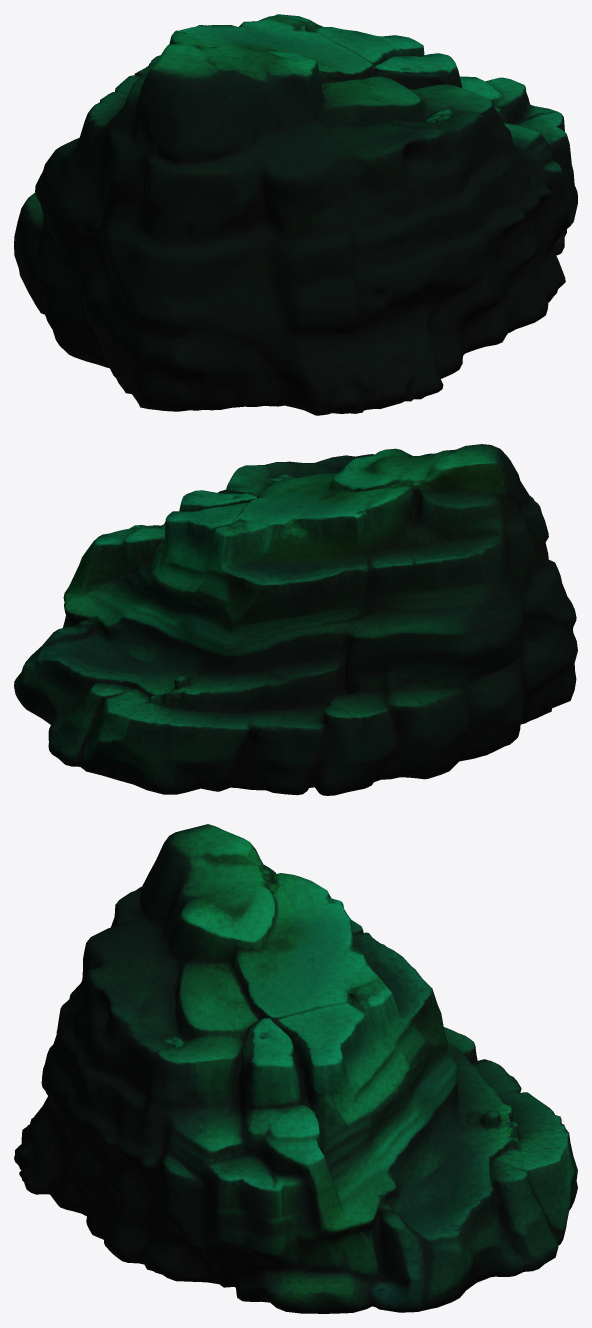
The model's file is ai_boulder_trellis3dnet.glb.
The picture shows the model from 3 angles, top to bottom: view 1: azimuth 30°, elevation 25°; view 2: azimuth 150°, elevation 25°; view 3: azimuth 270°, elevation 25°; orthographic projection. The views are drawn at different scales.
Visible parts, largest first — view 1: ai_boulder_trellis3dnet_mesh; view 2: ai_boulder_trellis3dnet_mesh; view 3: ai_boulder_trellis3dnet_mesh.
Boxes of the visible parts, x1=… form: ai_boulder_trellis3dnet_mesh: x1=14, y1=14, x2=577, y2=415; ai_boulder_trellis3dnet_mesh: x1=14, y1=444, x2=577, y2=795; ai_boulder_trellis3dnet_mesh: x1=14, y1=824, x2=577, y2=1313.
Size of the model in its own units: 2.1 by 1.16 by 2.07.
1 material, 1 textured.
